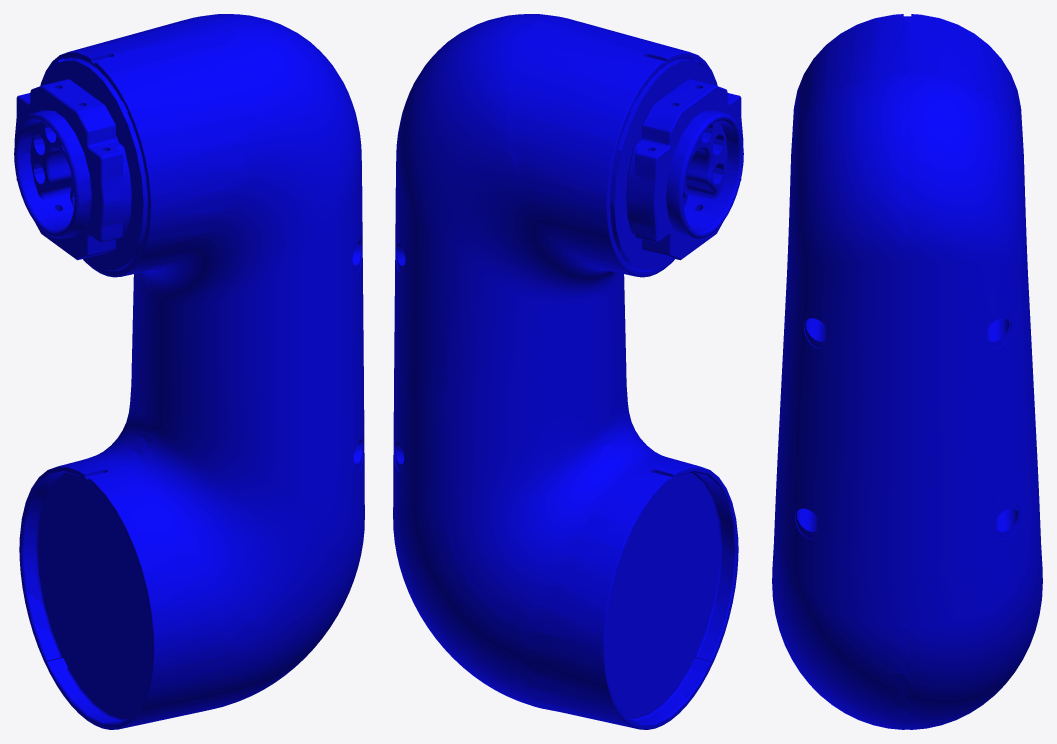
3 views of the same model, side by side, from view 1: azimuth 30°, elevation 25°; view 2: azimuth 150°, elevation 25°; view 3: azimuth 270°, elevation 25° (orthographic).
Parts seen in each view (by area): view 1: solid_myCobot_320_M5_2022v1.2_230708_-___________W-J4_____my (×2); view 2: solid_myCobot_320_M5_2022v1.2_230708_-___________W-J4_____my (×2); view 3: solid_myCobot_320_M5_2022v1.2_230708_-___________W-J4_____my (×2).
Boxes of the visible parts, bbox=[...] form: solid_myCobot_320_M5_2022v1.2_230708_-___________W-J4_____my (×2): bbox=[14, 14, 364, 729]; solid_myCobot_320_M5_2022v1.2_230708_-___________W-J4_____my (×2): bbox=[393, 14, 743, 729]; solid_myCobot_320_M5_2022v1.2_230708_-___________W-J4_____my (×2): bbox=[772, 14, 1042, 729].
Bounding box in the file's own units: 87 × 69.03 × 185.
